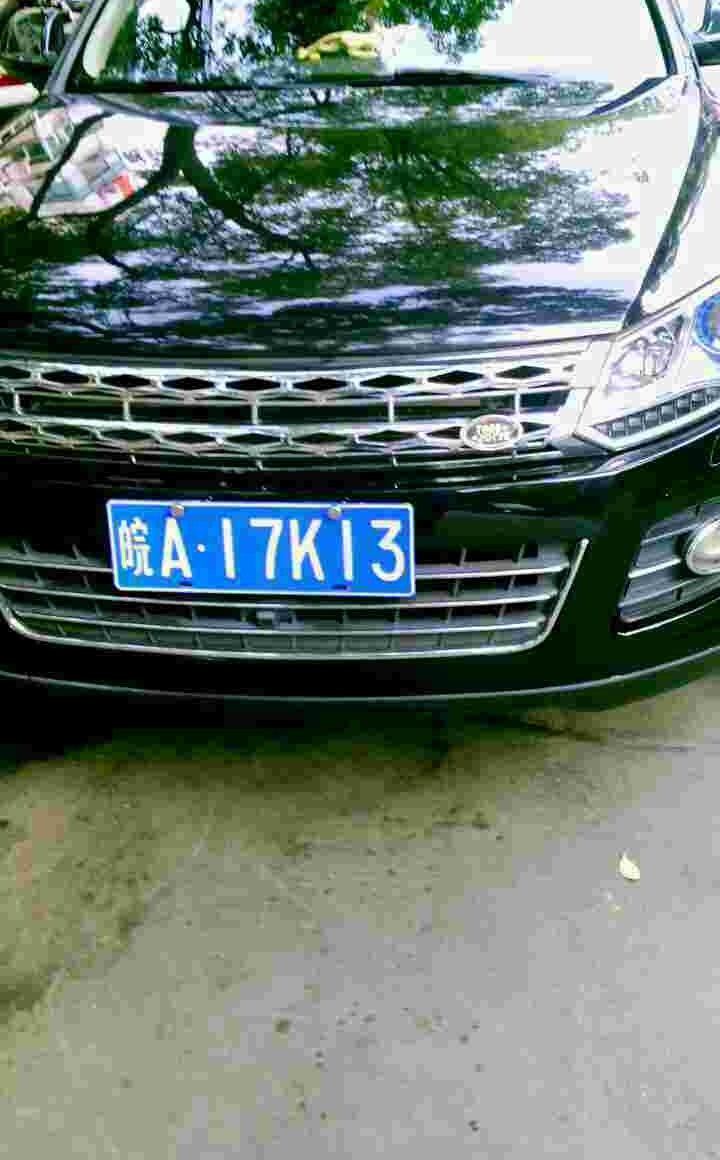license_plate: (95, 493, 423, 604)
